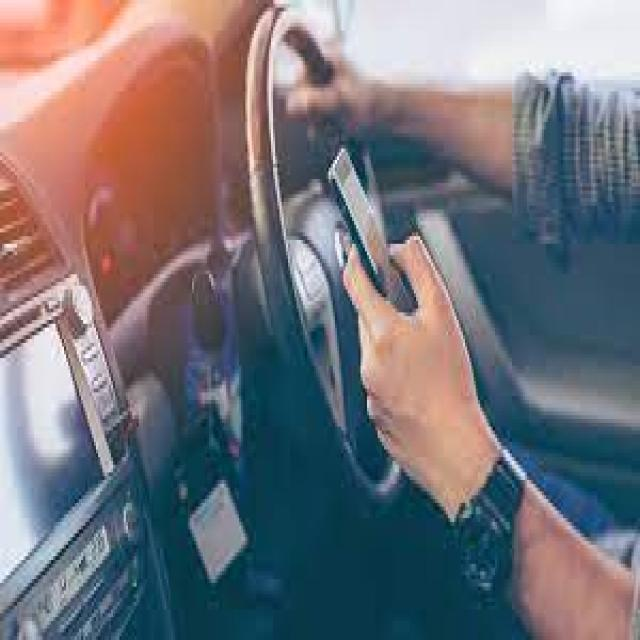Cellphone_texting: (326, 141, 461, 476)
